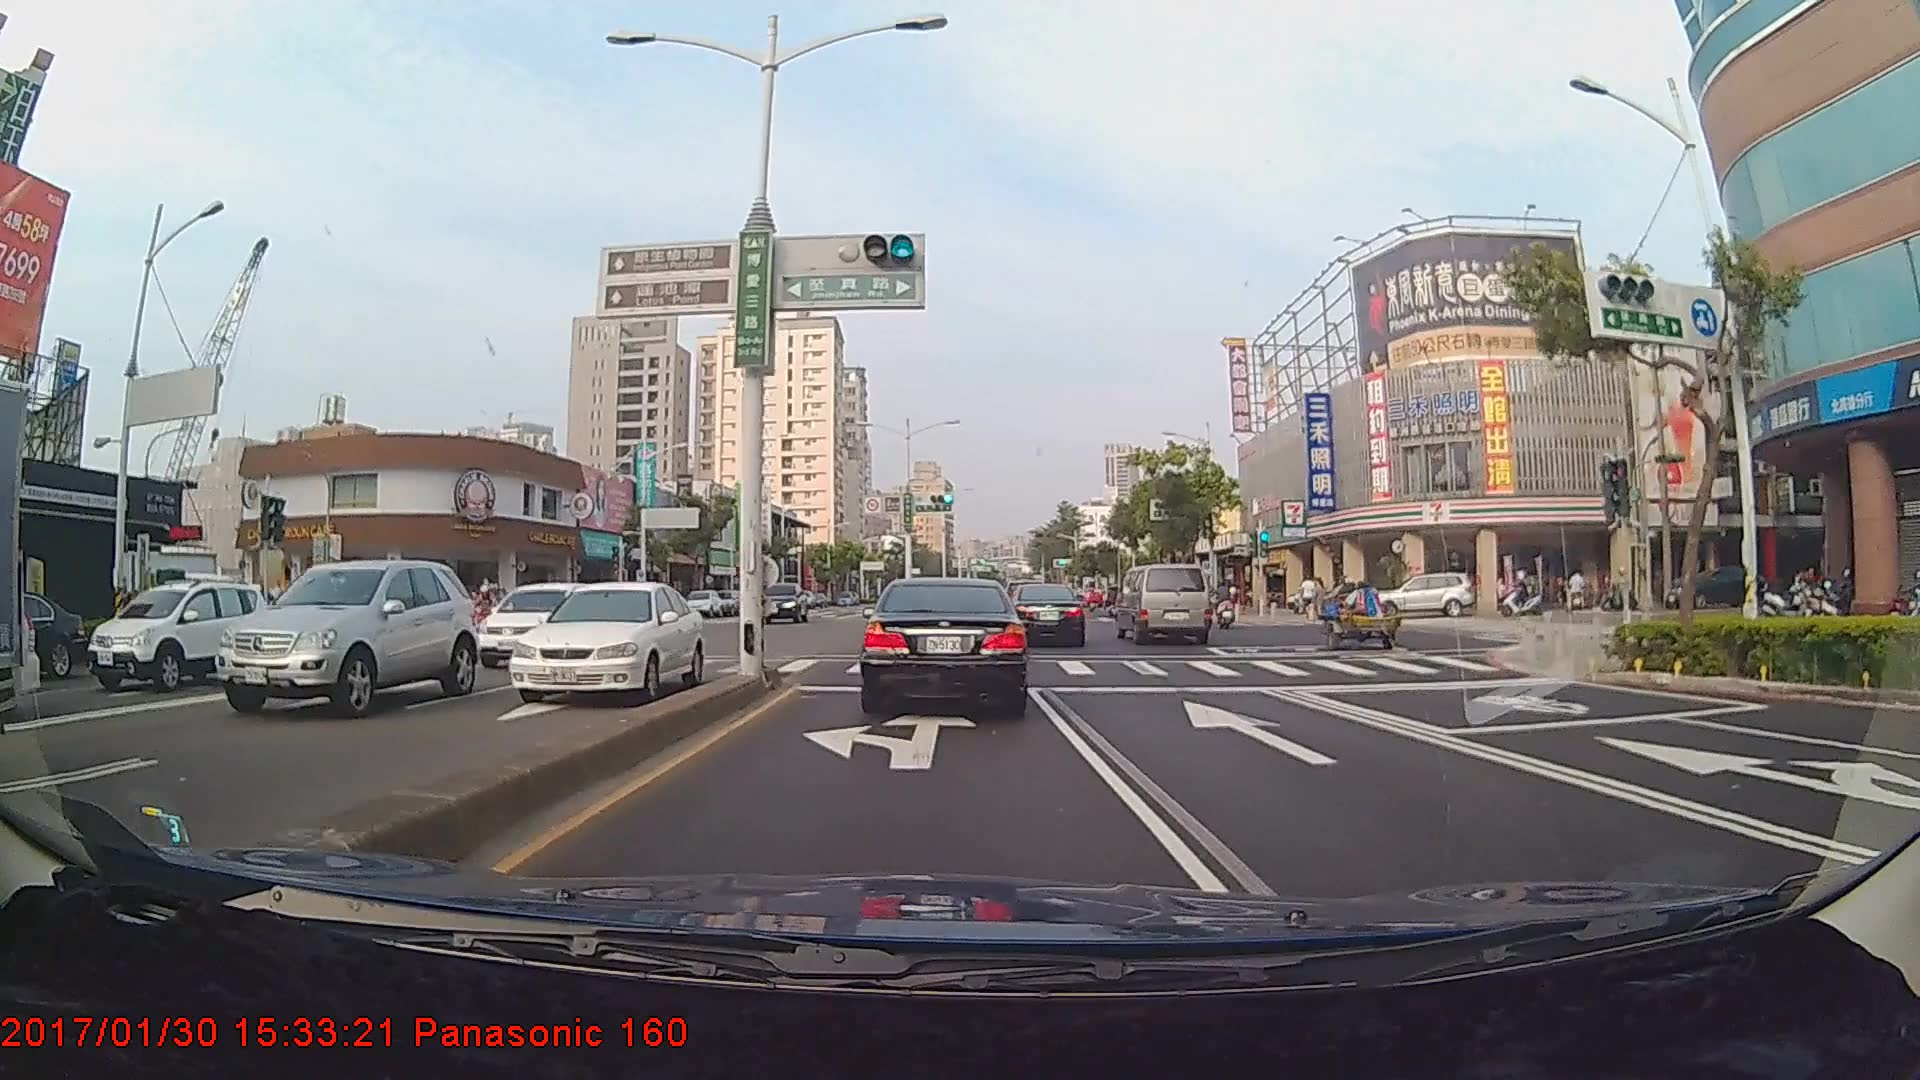rider: (461, 582, 502, 641), (1208, 581, 1242, 634)
vehicle: (191, 553, 467, 718), (493, 577, 713, 707), (861, 573, 1029, 719), (89, 573, 265, 698), (469, 583, 604, 668), (1117, 560, 1212, 645), (5, 595, 84, 678), (1008, 582, 1087, 648), (1387, 572, 1477, 619)
